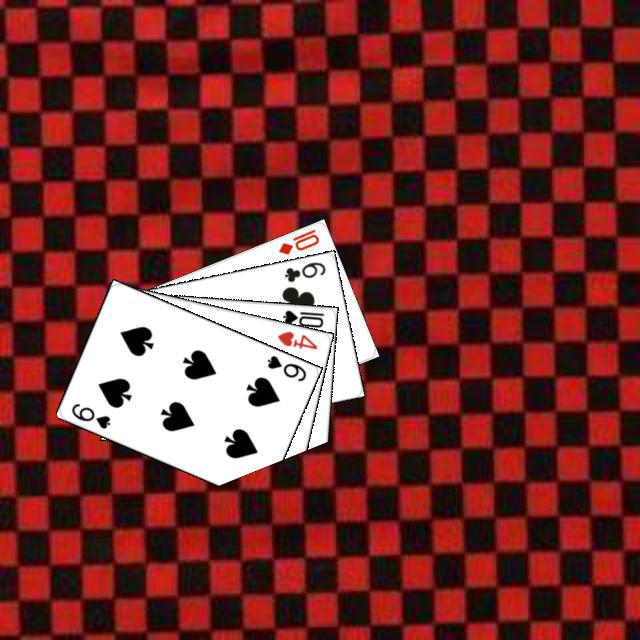10d: (273, 224, 321, 256)
10s: (278, 305, 325, 329)
4h: (272, 326, 319, 351)
6c: (279, 257, 327, 284)
6s: (262, 350, 308, 383), (66, 398, 112, 431)
